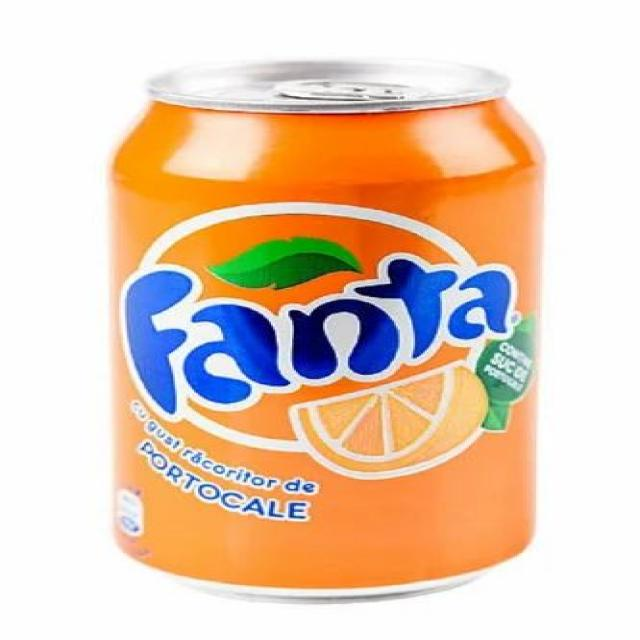fanta: (93, 65, 550, 597)
